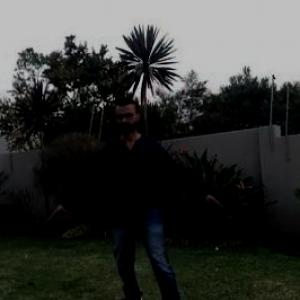land: (38, 87, 227, 299)
